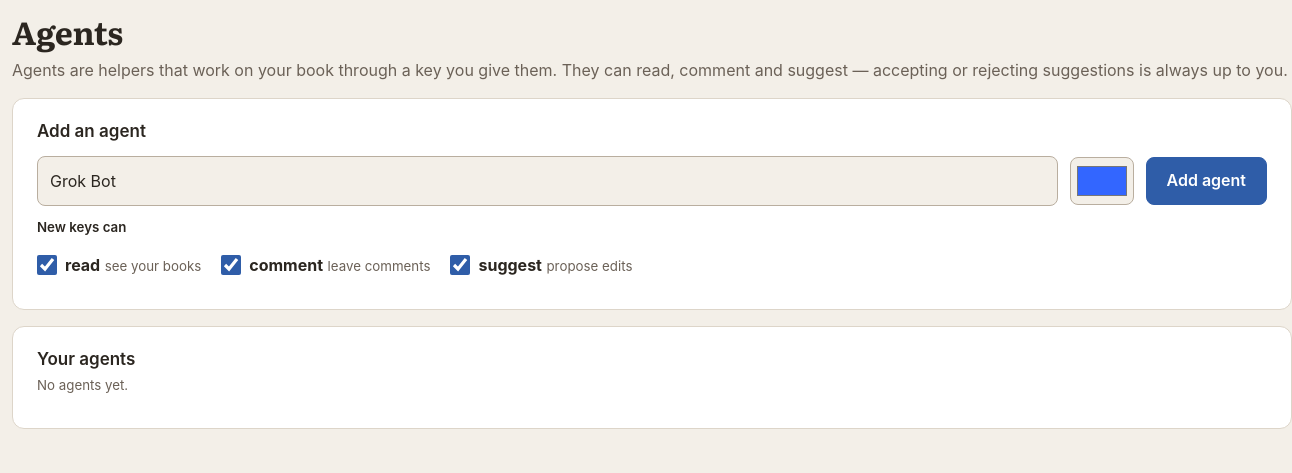
AgentsSettings › shows the backend error when a name is reserved or taken (RAD-263)
Replace the text in the field named "Agent name" with "You" at point(547, 181), box [37, 156, 1058, 206]
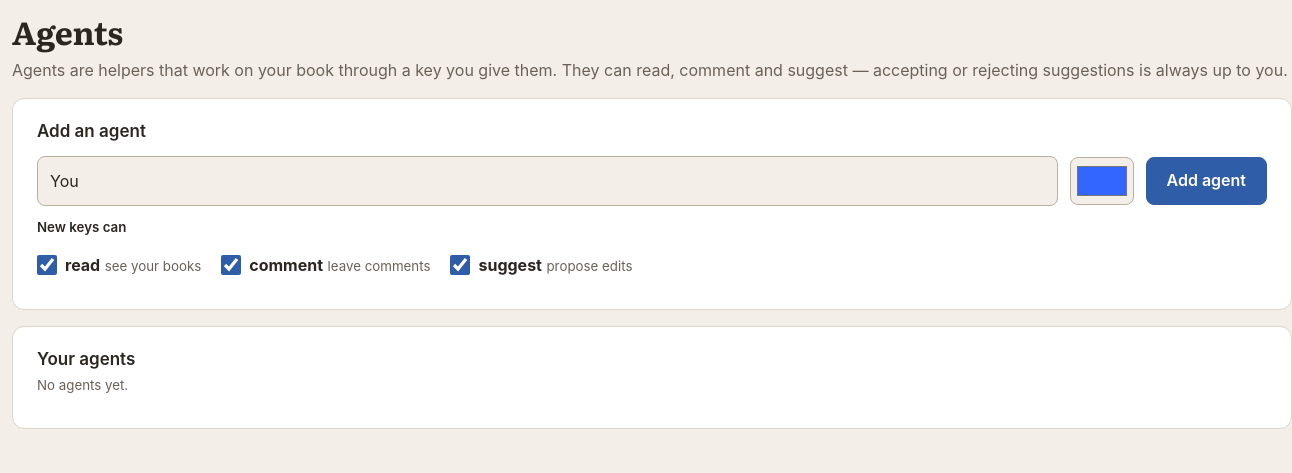
Submit the form with test id "create-agent", box [37, 156, 1267, 206]
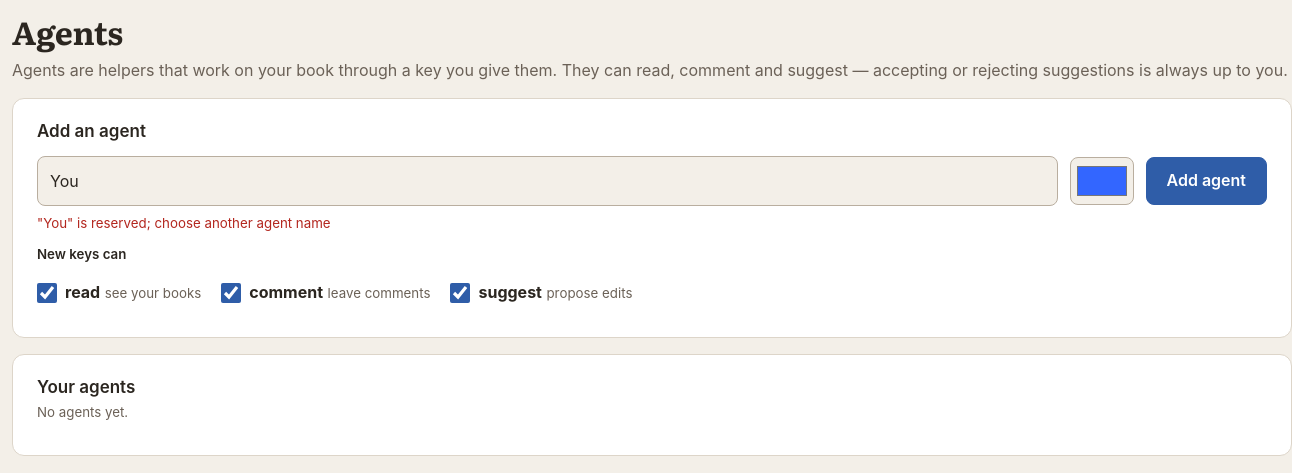
Expected: the text with test id "error" shows "is reserved; choose another agent name", [37, 215, 331, 231]
